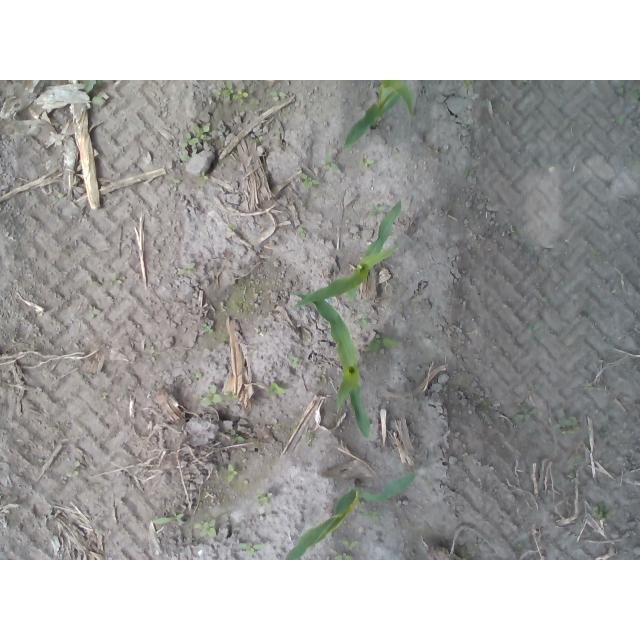Maize: (289, 290, 376, 443), (285, 472, 420, 560), (295, 197, 402, 308), (344, 80, 414, 149)
Weeds: (214, 81, 256, 112), (180, 125, 208, 160), (201, 385, 236, 408), (369, 334, 400, 353), (612, 80, 640, 100), (153, 511, 186, 525), (593, 502, 616, 521), (512, 408, 537, 425), (193, 521, 218, 538), (366, 202, 387, 219), (266, 381, 288, 397), (238, 542, 263, 555), (83, 80, 106, 94), (559, 416, 578, 432), (322, 155, 339, 172), (302, 174, 320, 189), (228, 431, 245, 446), (339, 539, 362, 550), (226, 463, 239, 482), (609, 114, 625, 127), (269, 87, 287, 98), (91, 93, 105, 107), (357, 158, 376, 168), (196, 171, 209, 185), (291, 354, 304, 367), (200, 322, 214, 334), (214, 331, 229, 342), (111, 275, 124, 287), (66, 467, 80, 478), (334, 552, 353, 560), (365, 510, 379, 519), (297, 225, 306, 238), (358, 318, 369, 328), (257, 496, 269, 505), (463, 80, 473, 89), (184, 267, 192, 273)
